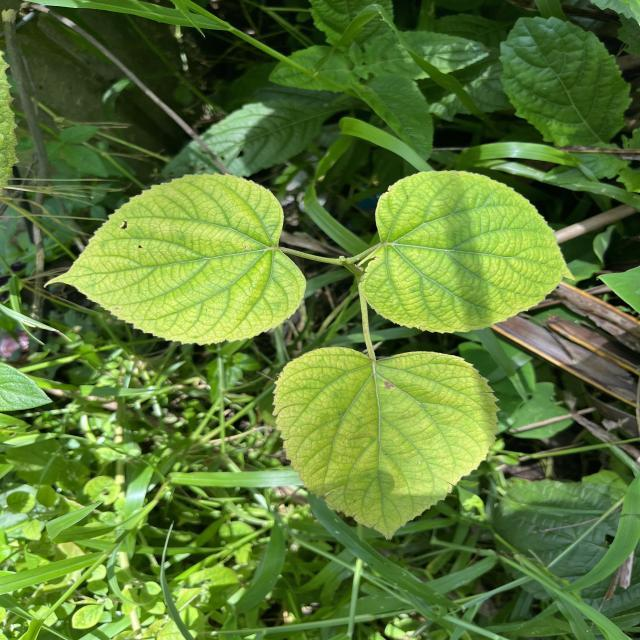Clerodendrum infortunatum: (42, 172, 308, 347), (272, 345, 504, 541), (358, 168, 576, 335)
